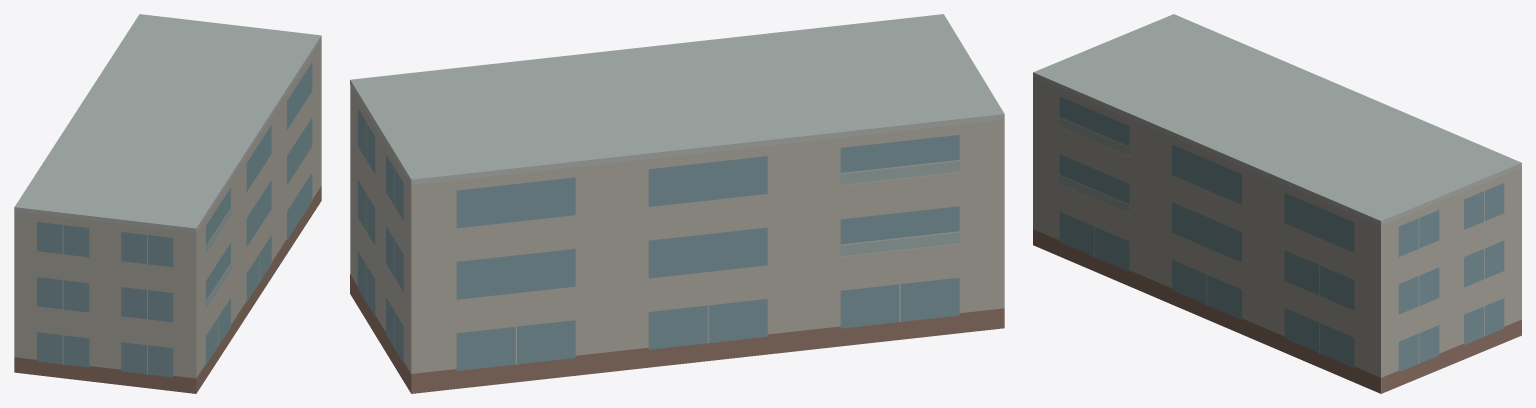
The model's file is survey-upis-32780528.glb.
The picture shows the model from 3 angles, left to right: view 1: azimuth 30°, elevation 25°; view 2: azimuth 150°, elevation 25°; view 3: azimuth 270°, elevation 25°; orthographic projection. The views are drawn at different scales.
Parts seen in each view (by area): view 1: survey-upis-32780528.tmp; view 2: survey-upis-32780528.tmp; view 3: survey-upis-32780528.tmp.
Part boxes in pixels (x1,y1,x2,y2): survey-upis-32780528.tmp: (14, 14, 321, 393); survey-upis-32780528.tmp: (350, 14, 1004, 393); survey-upis-32780528.tmp: (1033, 14, 1521, 393).
Size of the model in its own units: 23.53 by 9.15 by 23.47.
